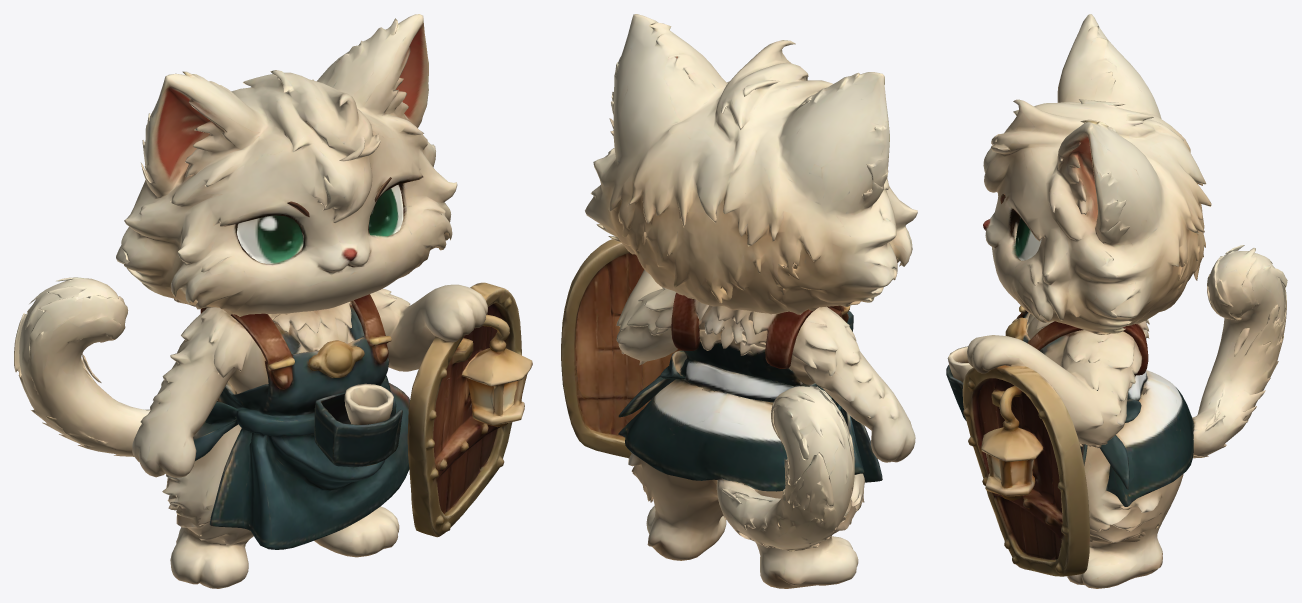
Rendered from mochi-source.glb.
3 renders of one model, left to right at view 1: azimuth 30°, elevation 25°; view 2: azimuth 150°, elevation 25°; view 3: azimuth 270°, elevation 25°, orthographic. The views are drawn at different scales.
Parts seen in each view (by area): view 1: world; view 2: world; view 3: world.
Part boxes in pixels (x1,y1,x2,y2): world: [14, 14, 532, 588]; world: [561, 14, 917, 588]; world: [946, 14, 1287, 588].
Size of the model in its own units: 0.7959 by 1 by 0.6476.
Materials: 1 (1 with a texture image).
